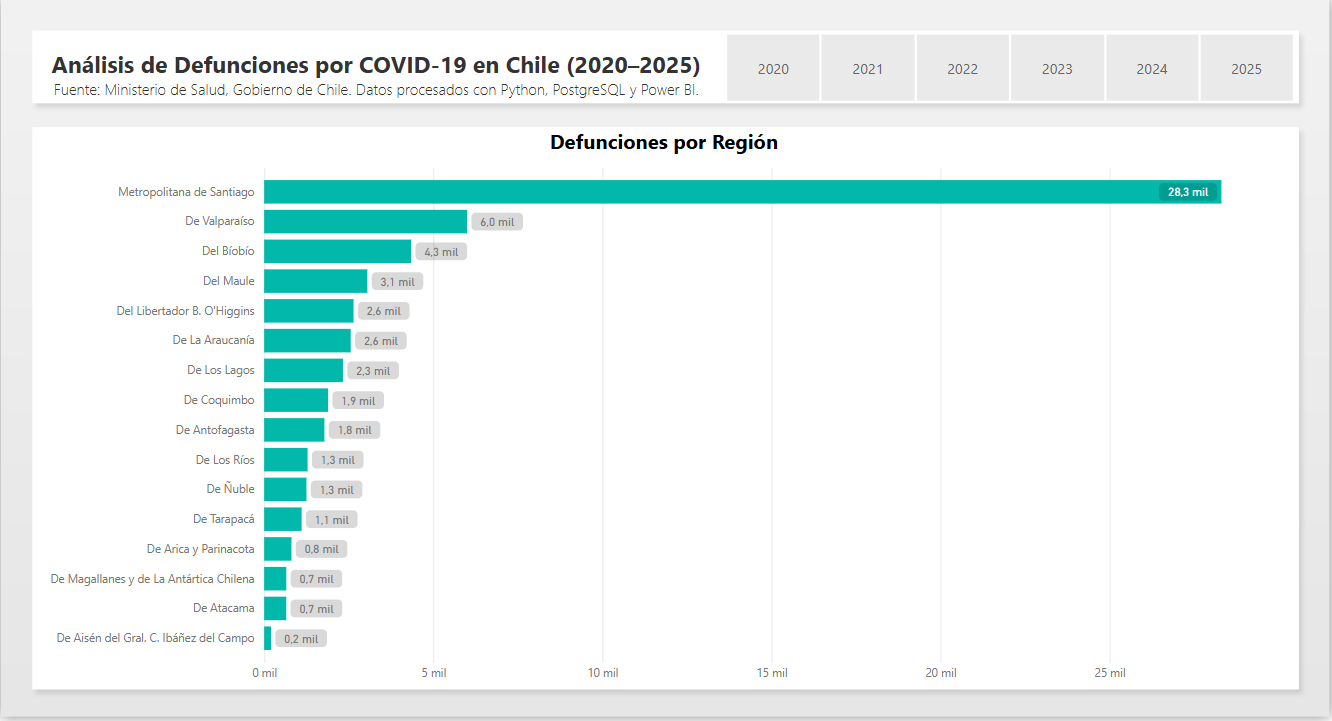

The dashboard page shown, as its layout file describes it:
{"tool":"powerbi","page":{"name":"Página 2","canvas":[1280,720],"ordinal":1},"visuals":[{"type":"clusteredBarChart","title":"Defunciones por Región","fields":{"Category":["public defunciones_covid.nombre_region"],"Y":["CountNonNull(public defunciones_covid.año)"]},"box":[54.6,143.9,1171.8,521.9],"z":1},{"type":"slicer","fields":{"Values":["public defunciones_covid.año"]},"box":[673.1,51.5,572.3,74.6],"z":2},{"type":"textbox","box":[56.7,66.2,637.4,59.9],"z":3}]}

Visuals, with their boxes on the page's 1280x720 design canvas (x1, y1, x2, y2). These are canvas units, not pixel positions in the 1332x721 screenshot, which may show the page scaled, cropped or inside an application window:
"Defunciones por Región" clusteredBarChart: [left=55, top=144, right=1226, bottom=666]
slicer - public defunciones_covid.año: [left=673, top=52, right=1245, bottom=126]
textbox: [left=57, top=66, right=694, bottom=126]
